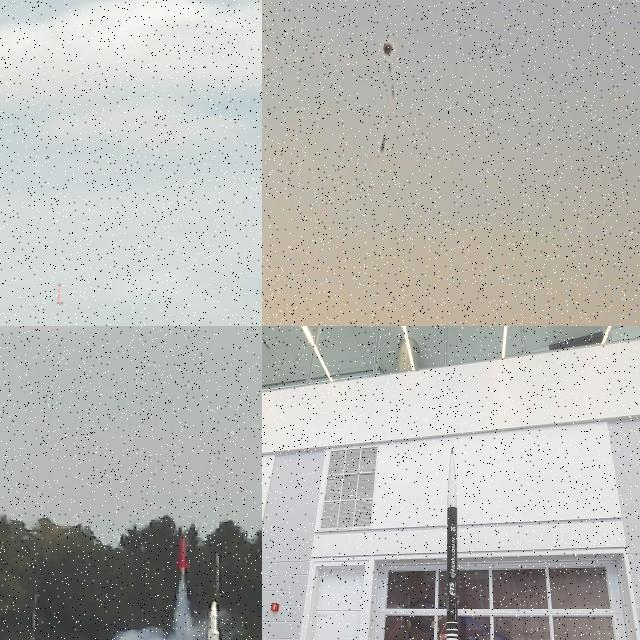Rocket: (446, 448, 458, 640), (203, 600, 221, 640), (176, 536, 190, 569), (56, 282, 64, 306), (380, 133, 386, 152)
